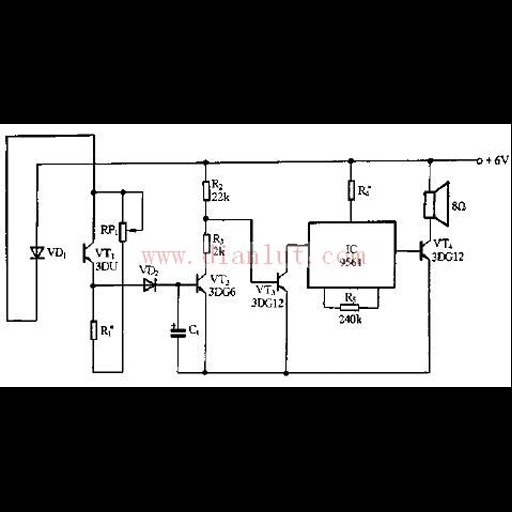firstpolarcapacitor: (166, 320, 187, 342)
firstresistance: (344, 176, 356, 206), (198, 178, 212, 202), (87, 316, 99, 343), (199, 231, 212, 255), (336, 302, 363, 312)
loudspeaker: (420, 179, 452, 228)
npn: (409, 231, 433, 266), (187, 267, 209, 301), (273, 266, 290, 293)
seconddiode: (28, 243, 47, 264), (138, 276, 160, 294)
